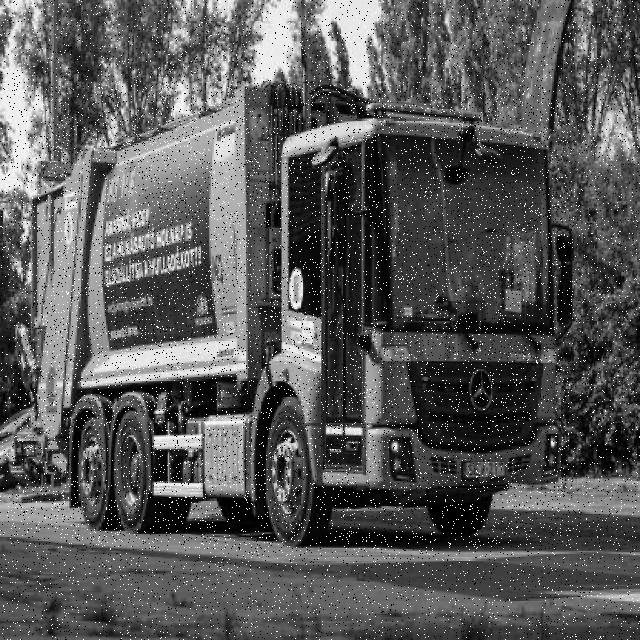Garbage Truck: (12, 85, 575, 549)
